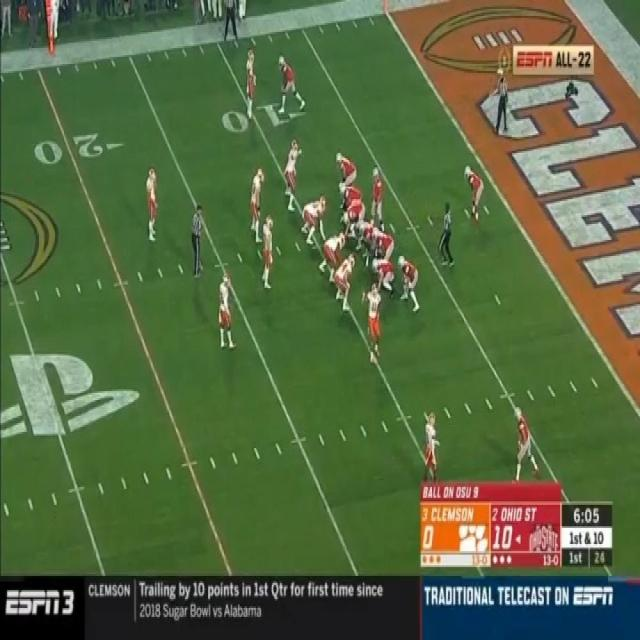center: (341, 208, 364, 245)
db: (220, 274, 236, 348), (146, 166, 158, 242), (423, 411, 435, 473), (243, 52, 254, 114)
lb: (368, 282, 382, 364), (262, 212, 276, 286), (254, 165, 263, 242), (286, 141, 297, 202)
qb: (369, 167, 385, 228)
